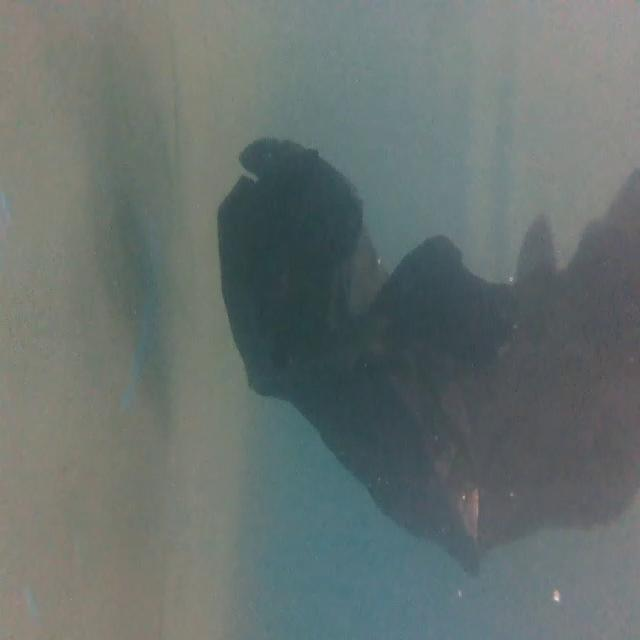plastic bags: (209, 132, 640, 573)
